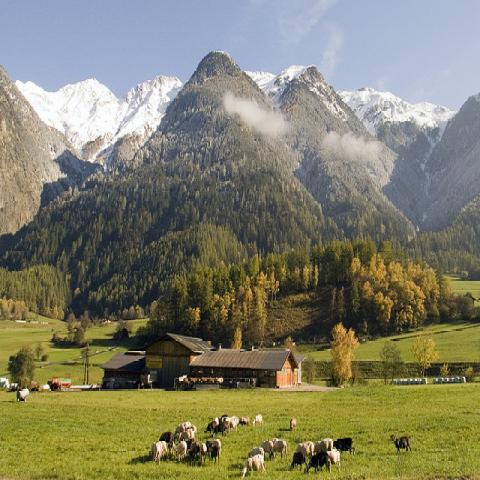truck: (47, 372, 72, 390)
